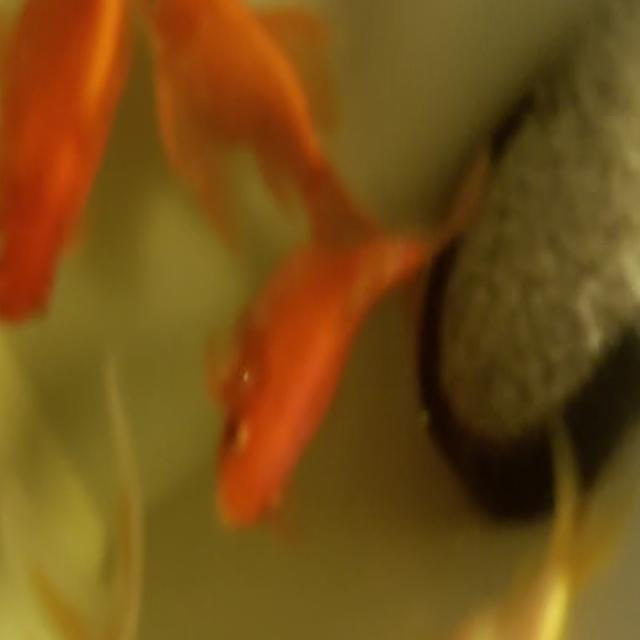fish: (207, 193, 478, 540), (129, 0, 393, 262), (378, 407, 640, 640), (0, 0, 142, 321), (0, 359, 141, 640)
